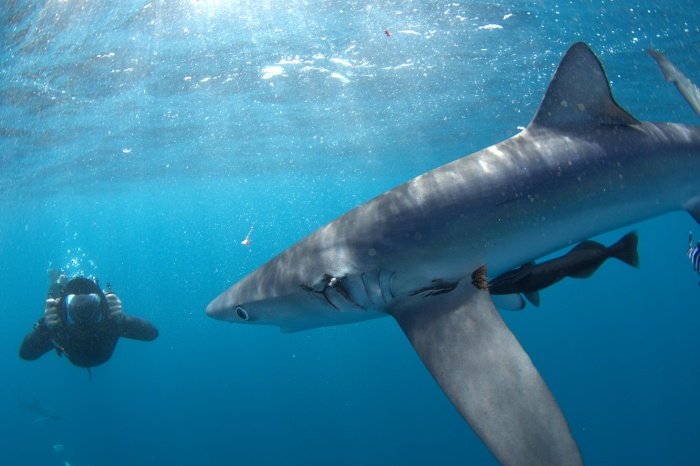Azul: (196, 15, 700, 460)
